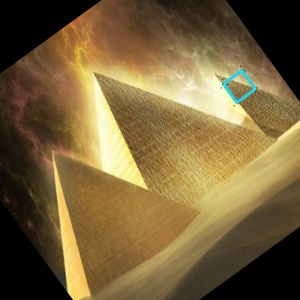square: (221, 68, 260, 105)
